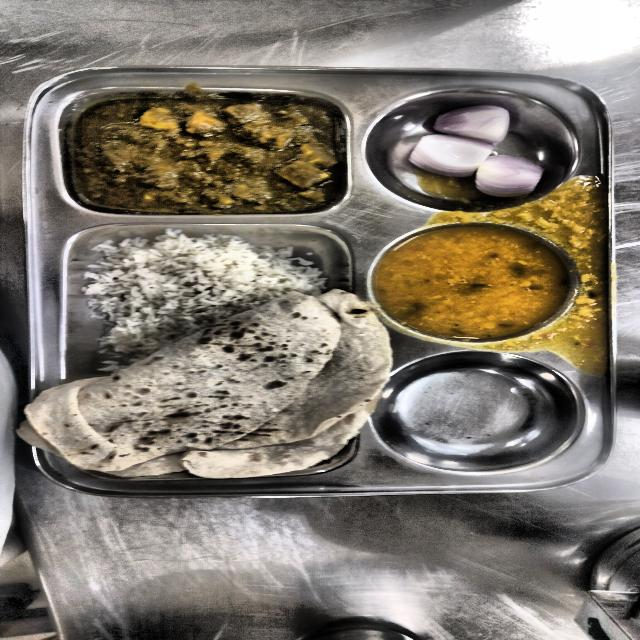34: (81, 229, 326, 372)
Chilli-paneer: (371, 221, 607, 363)
Jalebi: (66, 84, 347, 216)
Raita: (82, 229, 325, 370), (31, 324, 370, 417), (114, 406, 369, 478), (18, 420, 50, 450)
Red--chutney: (26, 290, 392, 479)
Salad-Chukundar: (363, 85, 578, 211)
